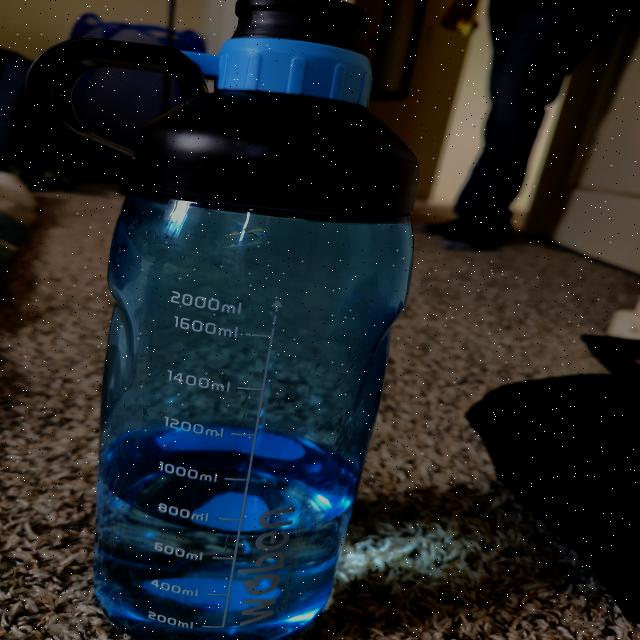bottle: (85, 0, 469, 637)
